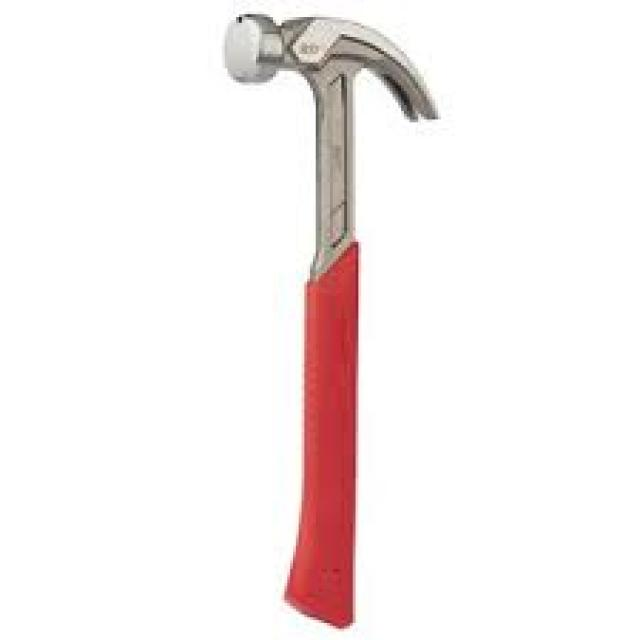hammer: (211, 0, 533, 493)
